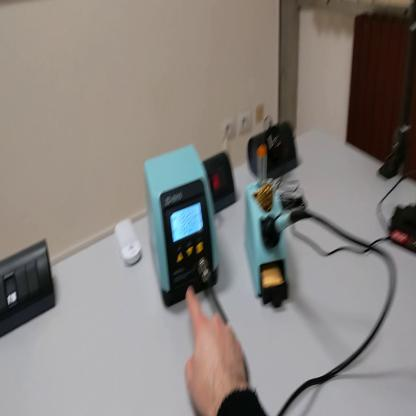electric screwdriver battery: (389, 202, 416, 254)
hand: (183, 287, 248, 415)
socket: (248, 126, 300, 180), (204, 147, 237, 213)
welder base: (247, 150, 291, 313)
welder probe tip: (269, 209, 314, 237)
welder station: (144, 139, 223, 306)
